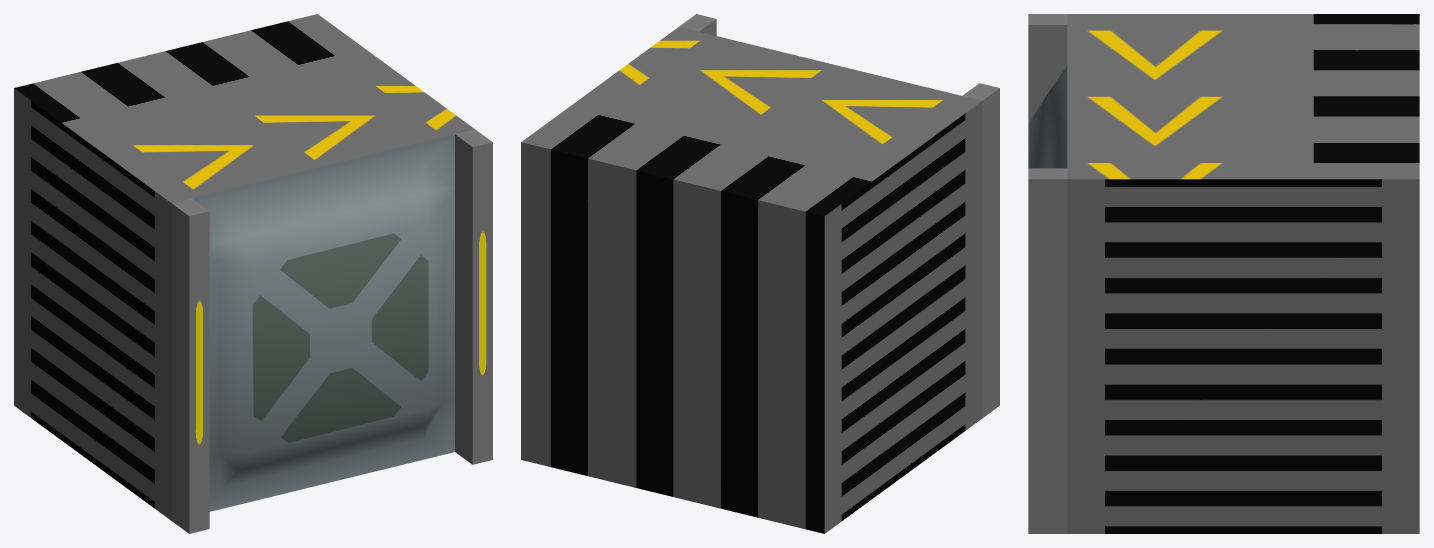
Rendered from TwoSideBlog.fbx.
The picture shows the model from 3 angles, left to right: view 1: azimuth 30°, elevation 25°; view 2: azimuth 150°, elevation 25°; view 3: azimuth 270°, elevation 25°; orthographic projection. The views are drawn at different scales.
Parts seen in each view (by area): view 1: geo1; view 2: geo1; view 3: geo1.
Part boxes in pixels (bbox=[...]): geo1: bbox=[14, 14, 492, 533]; geo1: bbox=[521, 14, 999, 533]; geo1: bbox=[1028, 14, 1419, 533].
Bounding box in the file's own units: 3 × 3 × 3.
